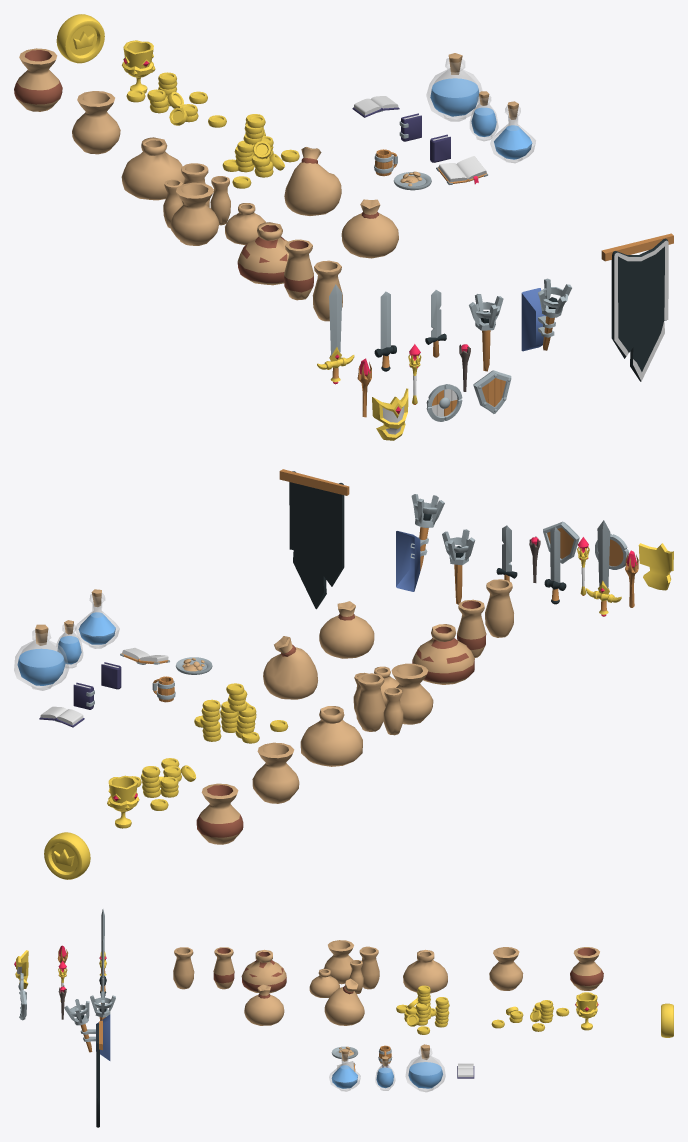
File: DungeonItems.fbx
The picture shows the model from 3 angles, top to bottom: view 1: azimuth 30°, elevation 25°; view 2: azimuth 150°, elevation 25°; view 3: azimuth 270°, elevation 25°; orthographic projection. The views are drawn at different scales.
Visible parts, largest first — view 1: banner, pots, lootSackA, potC, potionLarge_blue, coinsLarge, potC_decorated, torchWall, lootSackB, potB_decorated, potB, coin (+16 smaller); view 2: banner, pots, potC, coinsLarge, potC_decorated, lootSackA, potionLarge_blue, torchWall, lootSackB, potB, potB_decorated, coin (+12 smaller); view 3: pots, coinsLarge, potC, potC_decorated, lootSackA, potionLarge_blue, lootSackB, potB, potB_decorated, torchWall, potA_decorated, potionMedium_red (+8 smaller).
Boxes of the visible parts, x1=… form: banner: x1=601, y1=233, x2=673, y2=381; pots: x1=163, y1=163, x2=265, y2=245; lootSackA: x1=284, y1=147, x2=341, y2=215; potC: x1=121, y1=137, x2=184, y2=200; potionLarge_blue: x1=426, y1=53, x2=482, y2=121; coinsLarge: x1=222, y1=114, x2=299, y2=188; potC_decorated: x1=237, y1=222, x2=288, y2=285; torchWall: x1=521, y1=278, x2=571, y2=351; lootSackB: x1=341, y1=199, x2=398, y2=258; potB_decorated: x1=14, y1=48, x2=62, y2=111; potB: x1=72, y1=91, x2=120, y2=154; coin: x1=56, y1=14, x2=104, y2=63; banner: x1=279, y1=469, x2=349, y2=609; pots: x1=353, y1=663, x2=433, y2=735; potC: x1=300, y1=706, x2=362, y2=766; coinsLarge: x1=194, y1=683, x2=288, y2=743; potC_decorated: x1=412, y1=624, x2=474, y2=684; lootSackA: x1=263, y1=636, x2=317, y2=699; potionLarge_blue: x1=14, y1=624, x2=68, y2=690; torchWall: x1=396, y1=494, x2=444, y2=591; lootSackB: x1=319, y1=601, x2=374, y2=658; potB: x1=252, y1=742, x2=299, y2=803; potB_decorated: x1=196, y1=783, x2=243, y2=844; coin: x1=44, y1=832, x2=90, y2=879; pots: x1=309, y1=940, x2=379, y2=997; coinsLarge: x1=396, y1=985, x2=449, y2=1034; potC: x1=403, y1=949, x2=447, y2=993; potC_decorated: x1=241, y1=949, x2=286, y2=993; lootSackA: x1=324, y1=978, x2=364, y2=1025; potionLarge_blue: x1=405, y1=1044, x2=445, y2=1091; lootSackB: x1=244, y1=984, x2=284, y2=1025; potB: x1=489, y1=947, x2=523, y2=990; potB_decorated: x1=570, y1=947, x2=603, y2=990; torchWall: x1=64, y1=999, x2=110, y2=1060; potA_decorated: x1=213, y1=947, x2=234, y2=989; potionMedium_red: x1=329, y1=1048, x2=360, y2=1091.
Size of the model in its own units: 788 by 321 by 1637.
